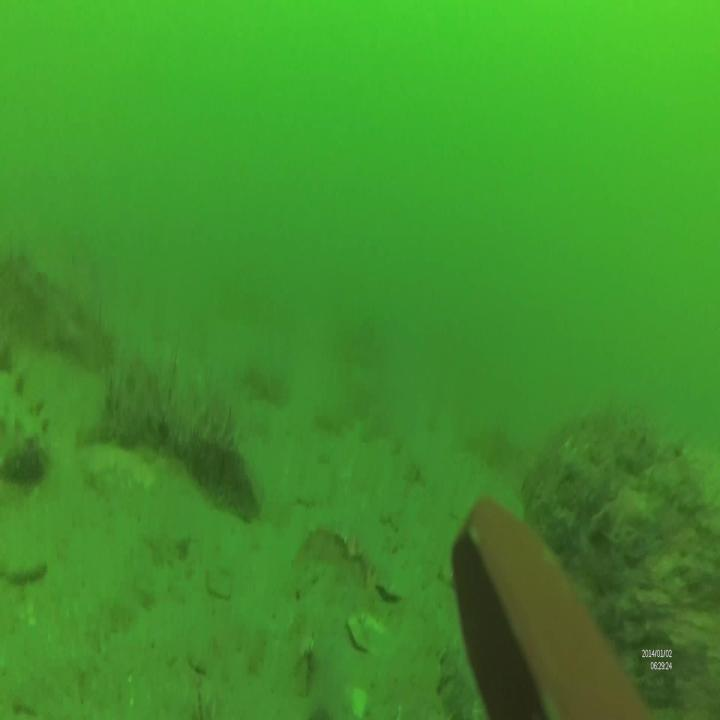holothurian: (0, 370, 52, 474)
